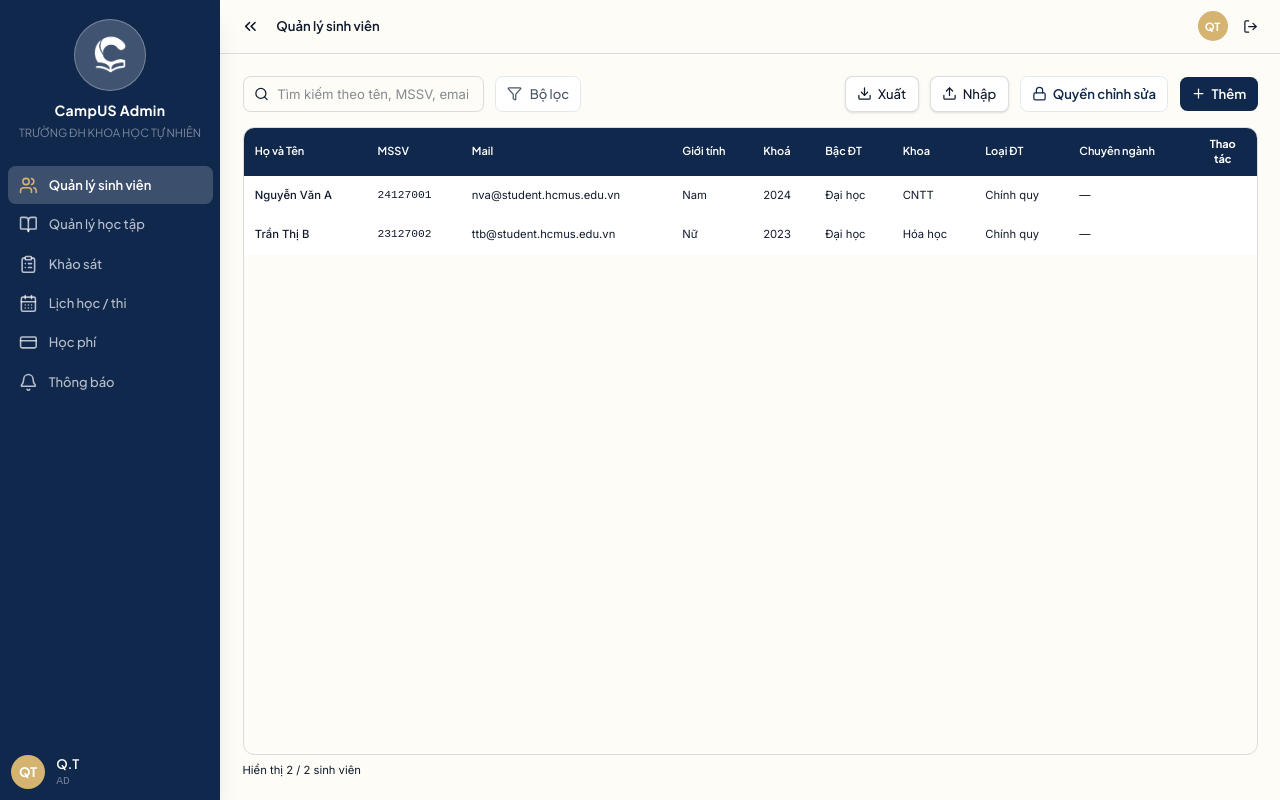
Unit Test: View & Search Student Directory (UC 2.18) › [TC_2.18_02 & 03]: Verify multi-criteria filtering and clear filter
Mở bộ lọc (Lúc này chỉ có 1 nút)
Click the button "Bộ lọc": (538, 94) [495, 76, 581, 112]
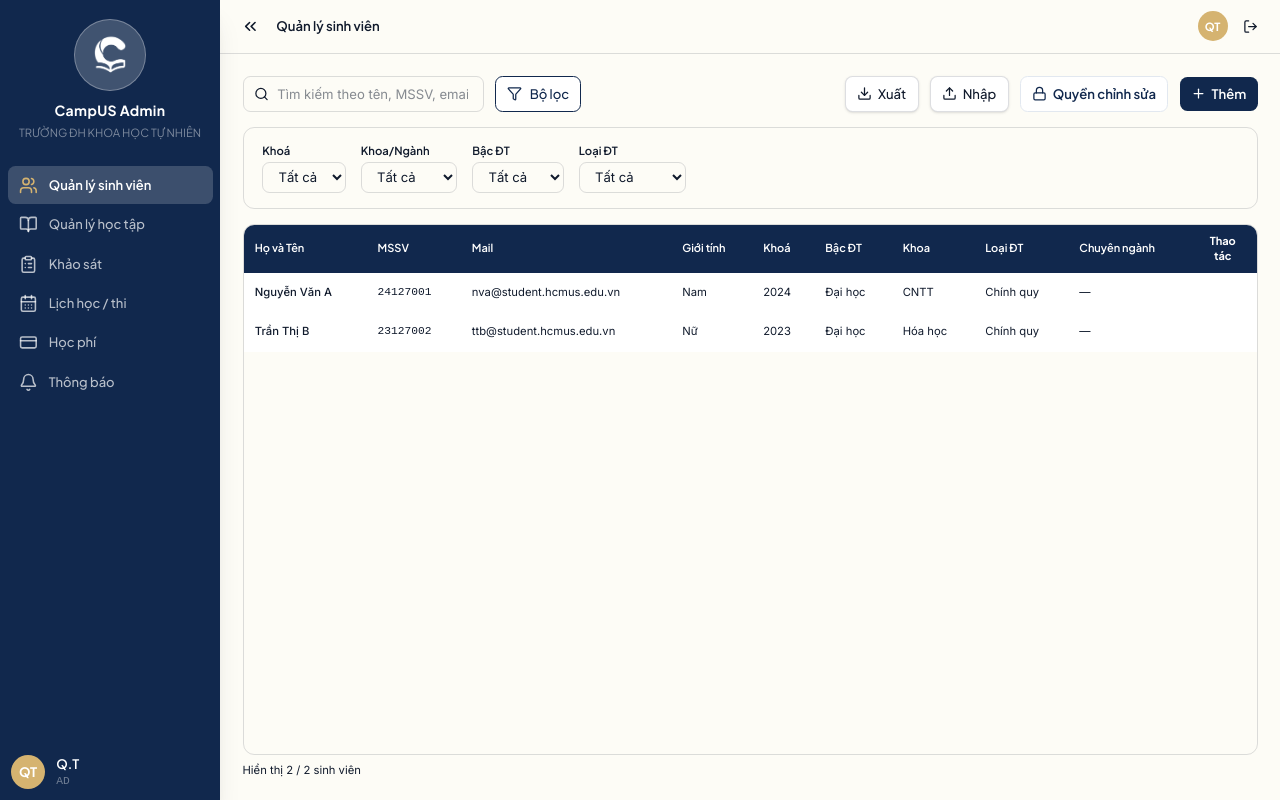
Lọc theo Khoa/Ngành "Hóa học"
Select "Hóa học" in the dropdown below "Khoa/Ngành": (409, 177) [361, 162, 457, 193]
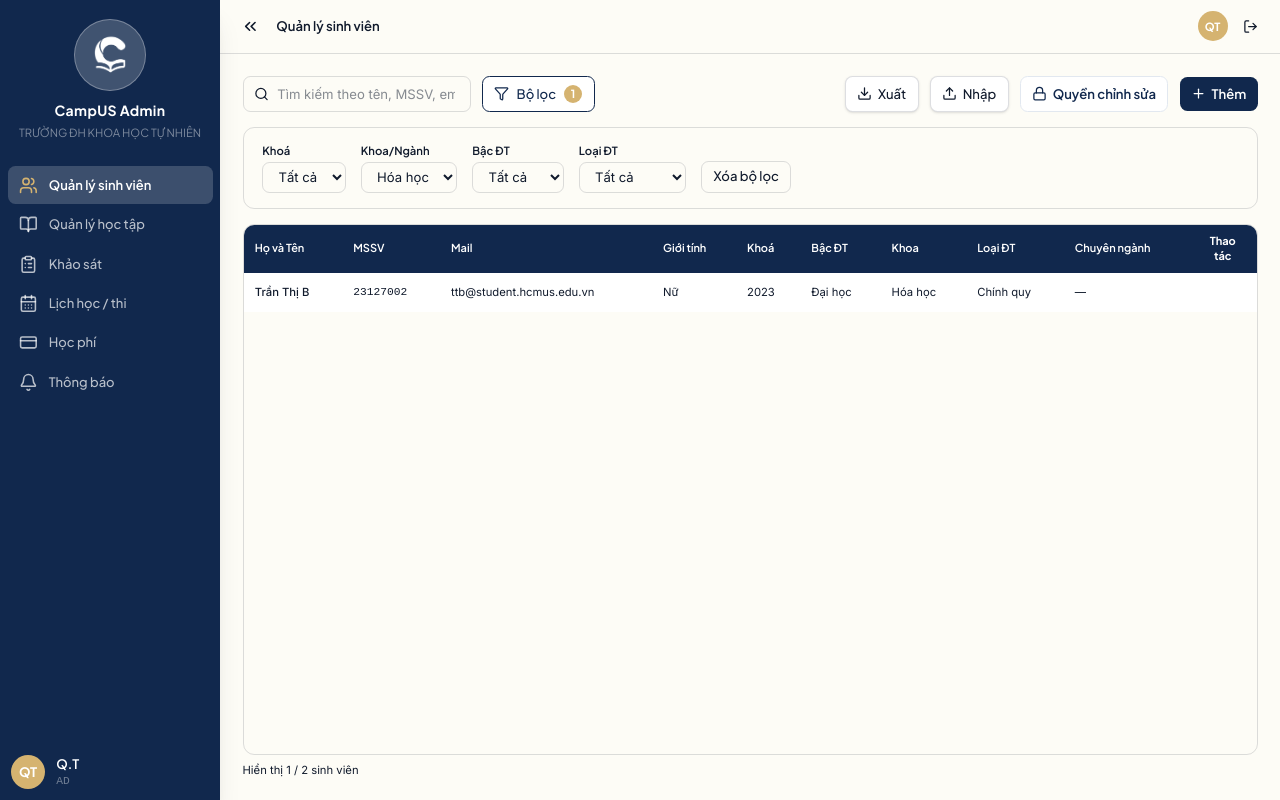
Check: the text "Trần Thị B" is shown, box [255, 285, 309, 299]
Check: the text "Nguyễn Văn A" is gone
Check: the button "Bộ lọc 1" is shown, box [482, 76, 595, 112]
Bấm xóa bộ lọc
Click the button "Xóa bộ lọc": (746, 177) [701, 161, 791, 193]
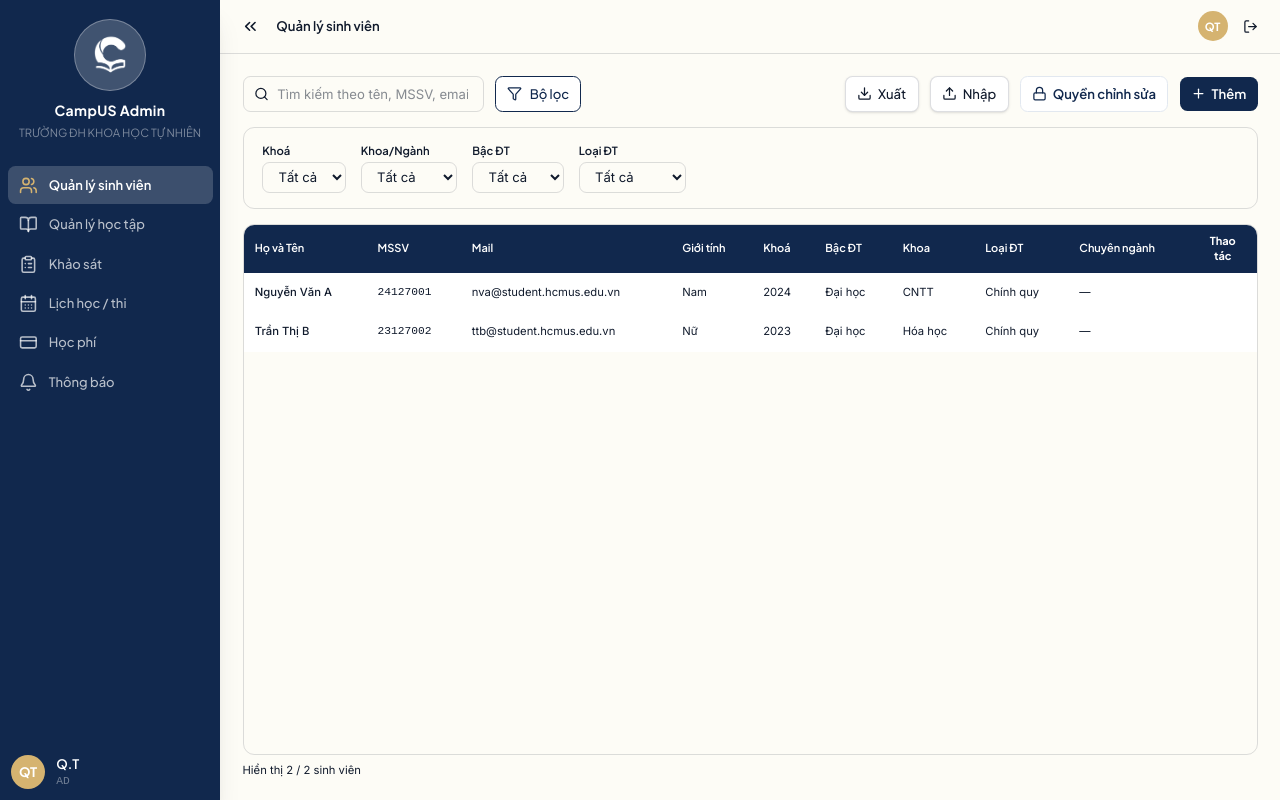
Check: the text "Trần Thị B" is shown, box [255, 324, 309, 338]
Check: the text "Nguyễn Văn A" is shown, box [255, 285, 332, 299]
